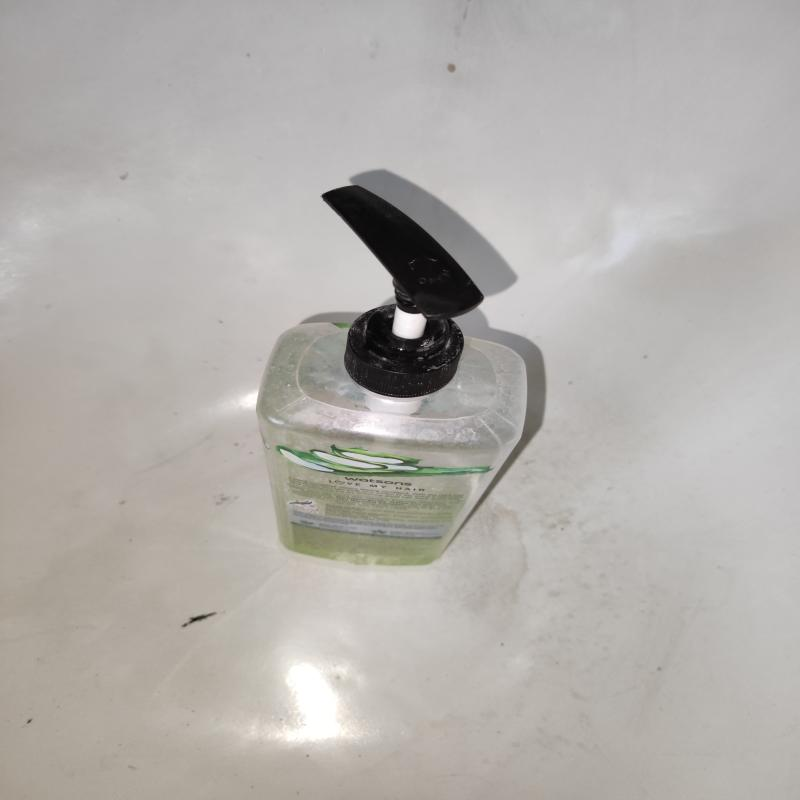plastic bottle: (257, 186, 530, 568)
